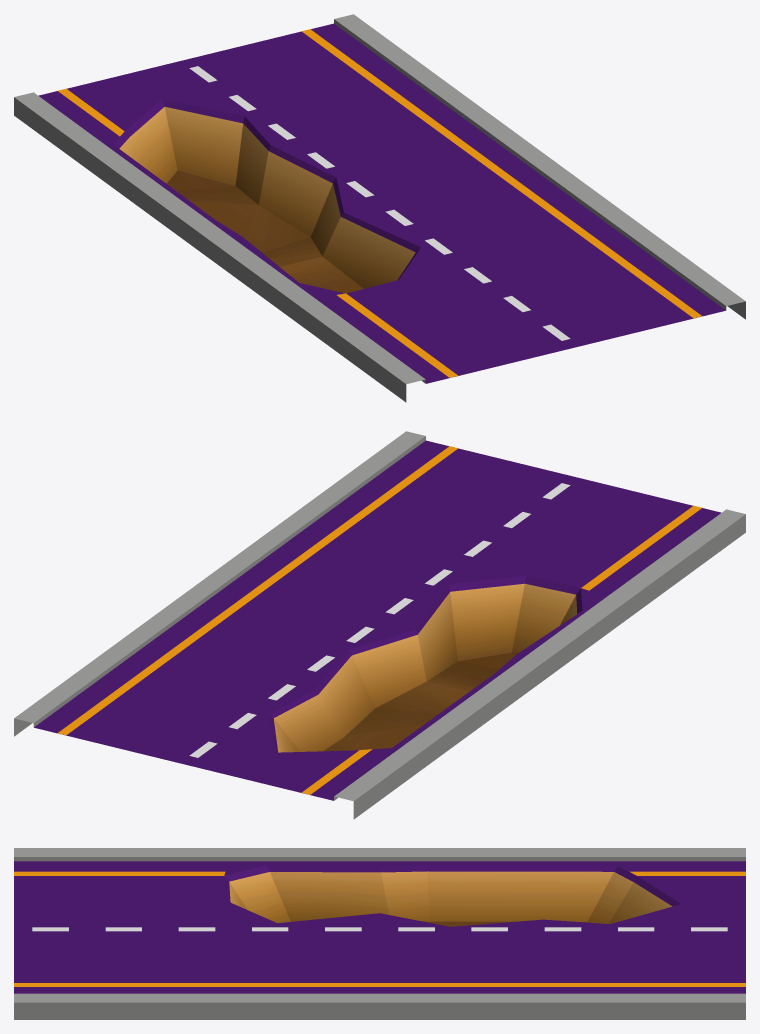
Rendered from Road_C_3.fbx.
The picture shows the model from 3 angles, top to bottom: view 1: azimuth 30°, elevation 25°; view 2: azimuth 150°, elevation 25°; view 3: azimuth 270°, elevation 25°; orthographic projection. The views are drawn at different scales.
Parts seen in each view (by area): view 1: Road_C_3; view 2: Road_C_3; view 3: Road_C_3.
Part boxes in pixels (box(x1,y1,x2,y2)): Road_C_3: box(14, 14, 745, 402); Road_C_3: box(14, 431, 745, 819); Road_C_3: box(14, 848, 745, 1019).
Size of the model in its own units: 800 by 147 by 1600.
